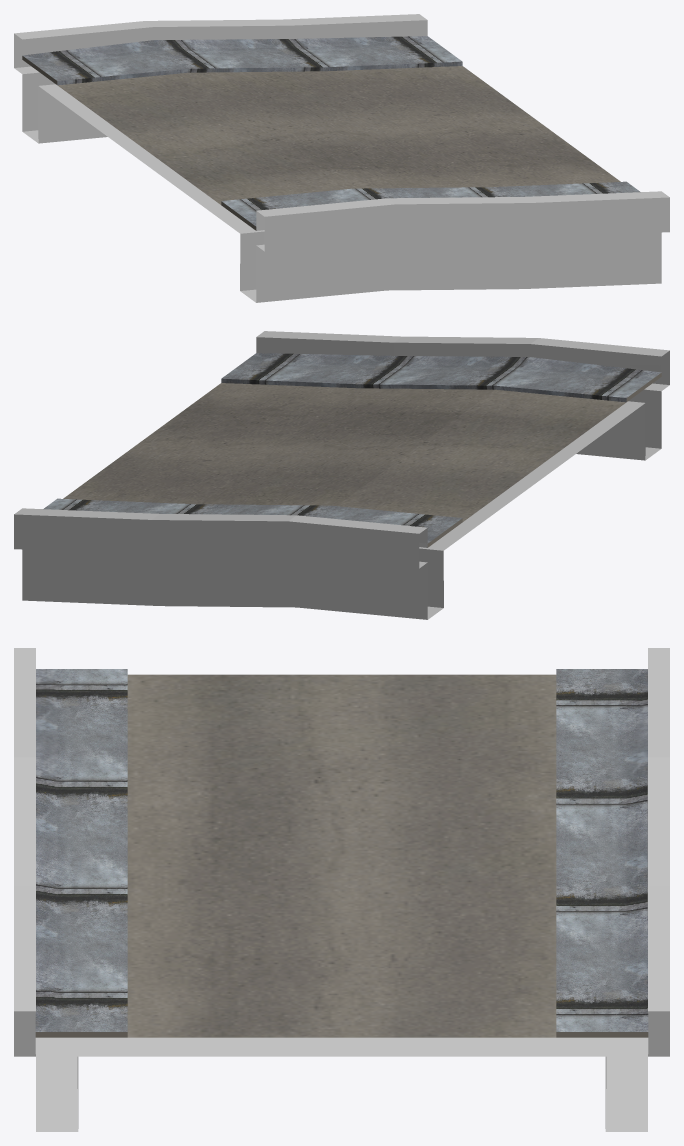
File: Urban_Road3BridgeRamp_Model.fbx
3 views of the same model, one above another, from view 1: azimuth 30°, elevation 25°; view 2: azimuth 150°, elevation 25°; view 3: azimuth 270°, elevation 25° (orthographic). The views are drawn at different scales.
Parts seen in each view (by area): view 1: Urban_Road3BridgeRamp_Mesh; view 2: Urban_Road3BridgeRamp_Mesh; view 3: Urban_Road3BridgeRamp_Mesh.
Part boxes in pixels (left/top/right/bottom): Urban_Road3BridgeRamp_Mesh: left=14, top=14, right=669, bottom=302; Urban_Road3BridgeRamp_Mesh: left=14, top=331, right=669, bottom=619; Urban_Road3BridgeRamp_Mesh: left=14, top=648, right=669, bottom=1131.
Bounding box in the file's own units: 16 × 6.48 × 17.13.
